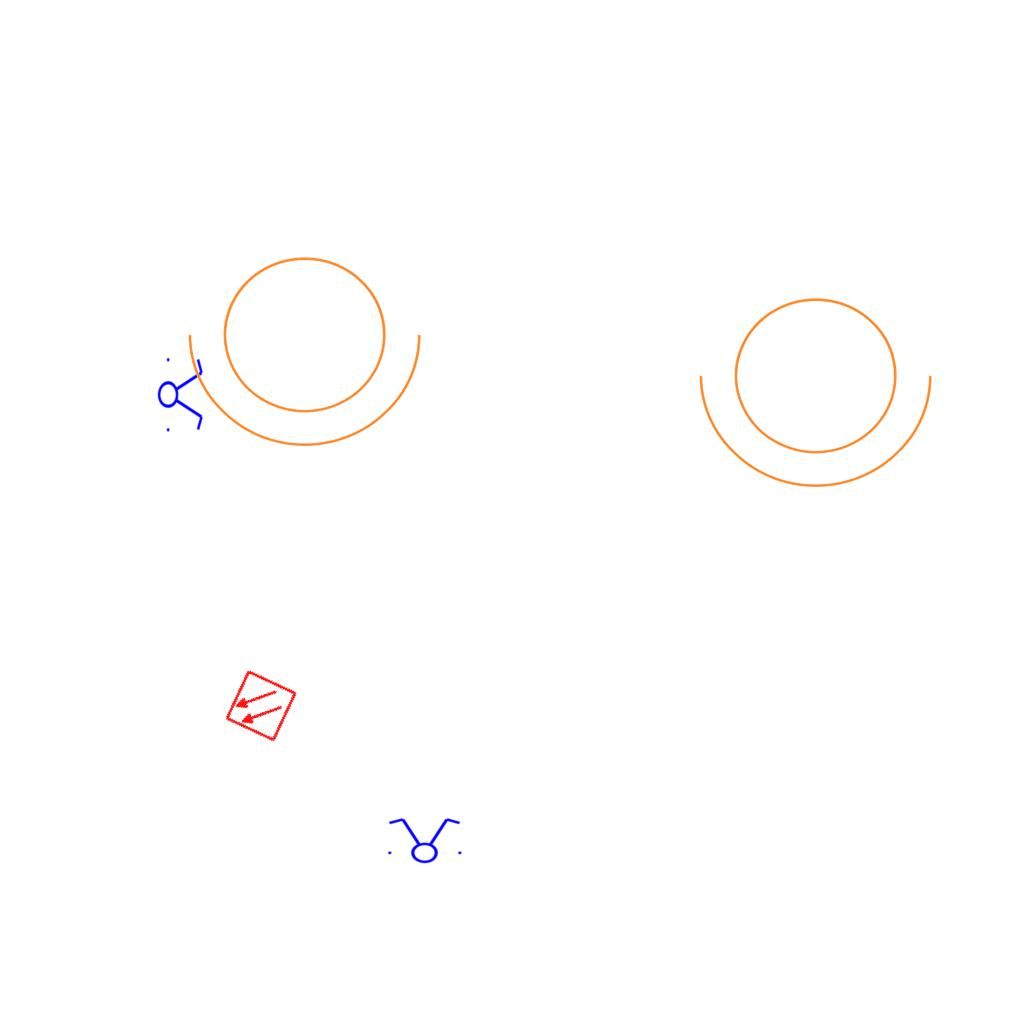RMO_Rauchmelder_optischer: (223, 668, 299, 744)
Scheinwerfer_fuer_Alarmbeleuchtung: (690, 273, 954, 498), (179, 232, 443, 457)
Serienschalter: (157, 352, 205, 436), (382, 816, 466, 864)
